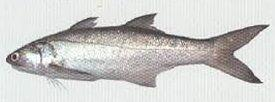Fourfinger Threadfish: (5, 12, 271, 88)
